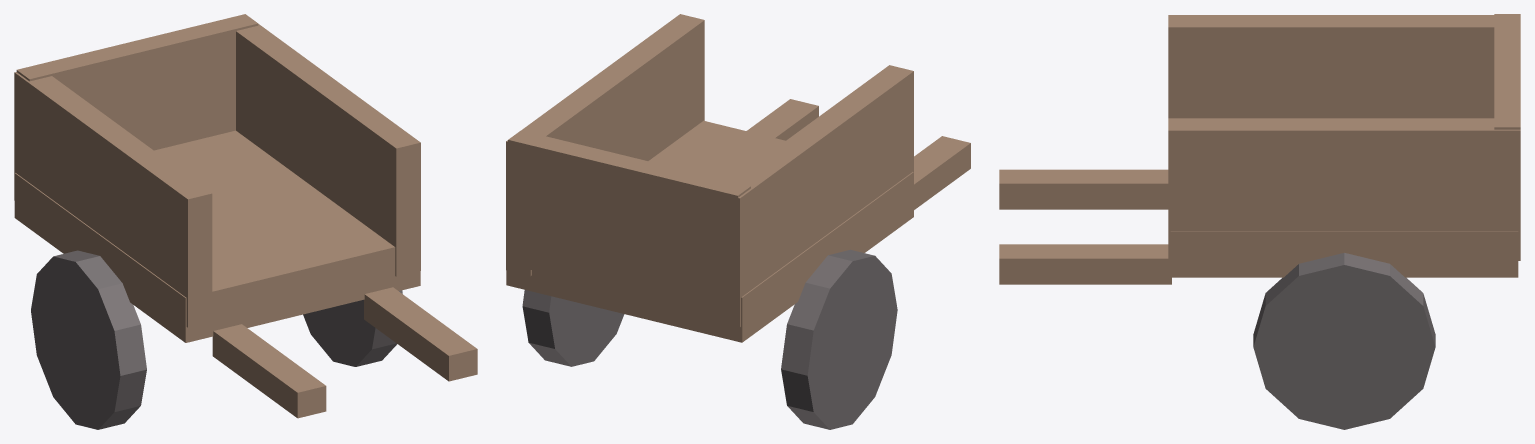
The model's file is timber_handcart.glb.
3 views of the same model, side by side, from view 1: azimuth 30°, elevation 25°; view 2: azimuth 150°, elevation 25°; view 3: azimuth 270°, elevation 25° (orthographic).
Parts seen in each view (by area): view 1: box_0, box_4, box_5, box_3, cylinder_1, box_6, box_7, cylinder_2; view 2: box_3, box_4, box_5, box_0, cylinder_1, cylinder_2, box_6, box_7; view 3: box_5, box_4, cylinder_2, box_0, box_7, box_6, box_3.
Part boxes in pixels (x1,y1,x2,y2): box_0: [14, 130, 420, 342]; box_4: [14, 72, 212, 327]; box_5: [236, 24, 420, 276]; box_3: [16, 14, 258, 150]; cylinder_1: [31, 250, 146, 429]; box_6: [212, 324, 326, 418]; box_7: [364, 287, 477, 381]; cylinder_2: [303, 290, 402, 366]; box_3: [508, 130, 750, 319]; box_4: [715, 65, 913, 327]; box_5: [506, 14, 704, 276]; box_0: [506, 120, 913, 342]; cylinder_1: [781, 249, 897, 429]; cylinder_2: [522, 290, 624, 366]; box_6: [914, 136, 970, 209]; box_7: [746, 99, 818, 140]; box_5: [1168, 118, 1520, 260]; box_4: [1168, 15, 1494, 118]; cylinder_2: [1253, 253, 1435, 429]; box_0: [1170, 231, 1518, 277]; box_7: [999, 244, 1171, 284]; box_6: [999, 169, 1168, 209]; box_3: [1494, 14, 1520, 129].
Size of the model in its own units: 1.39 by 1.33 by 2.18.
